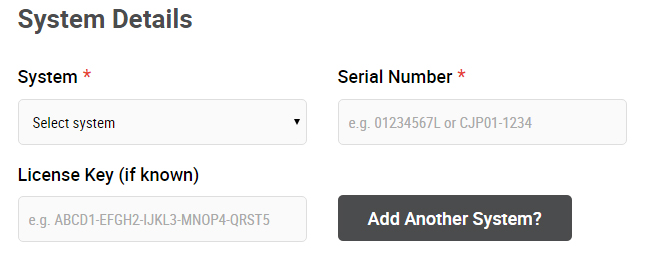_form_: (324, 4, 651, 263), (1, 4, 326, 263)
button: (337, 193, 575, 243)
field: (336, 97, 630, 148), (18, 194, 306, 243)
field_with_label: (335, 68, 634, 149), (15, 69, 312, 149), (16, 167, 308, 246)
select: (17, 97, 309, 147)
